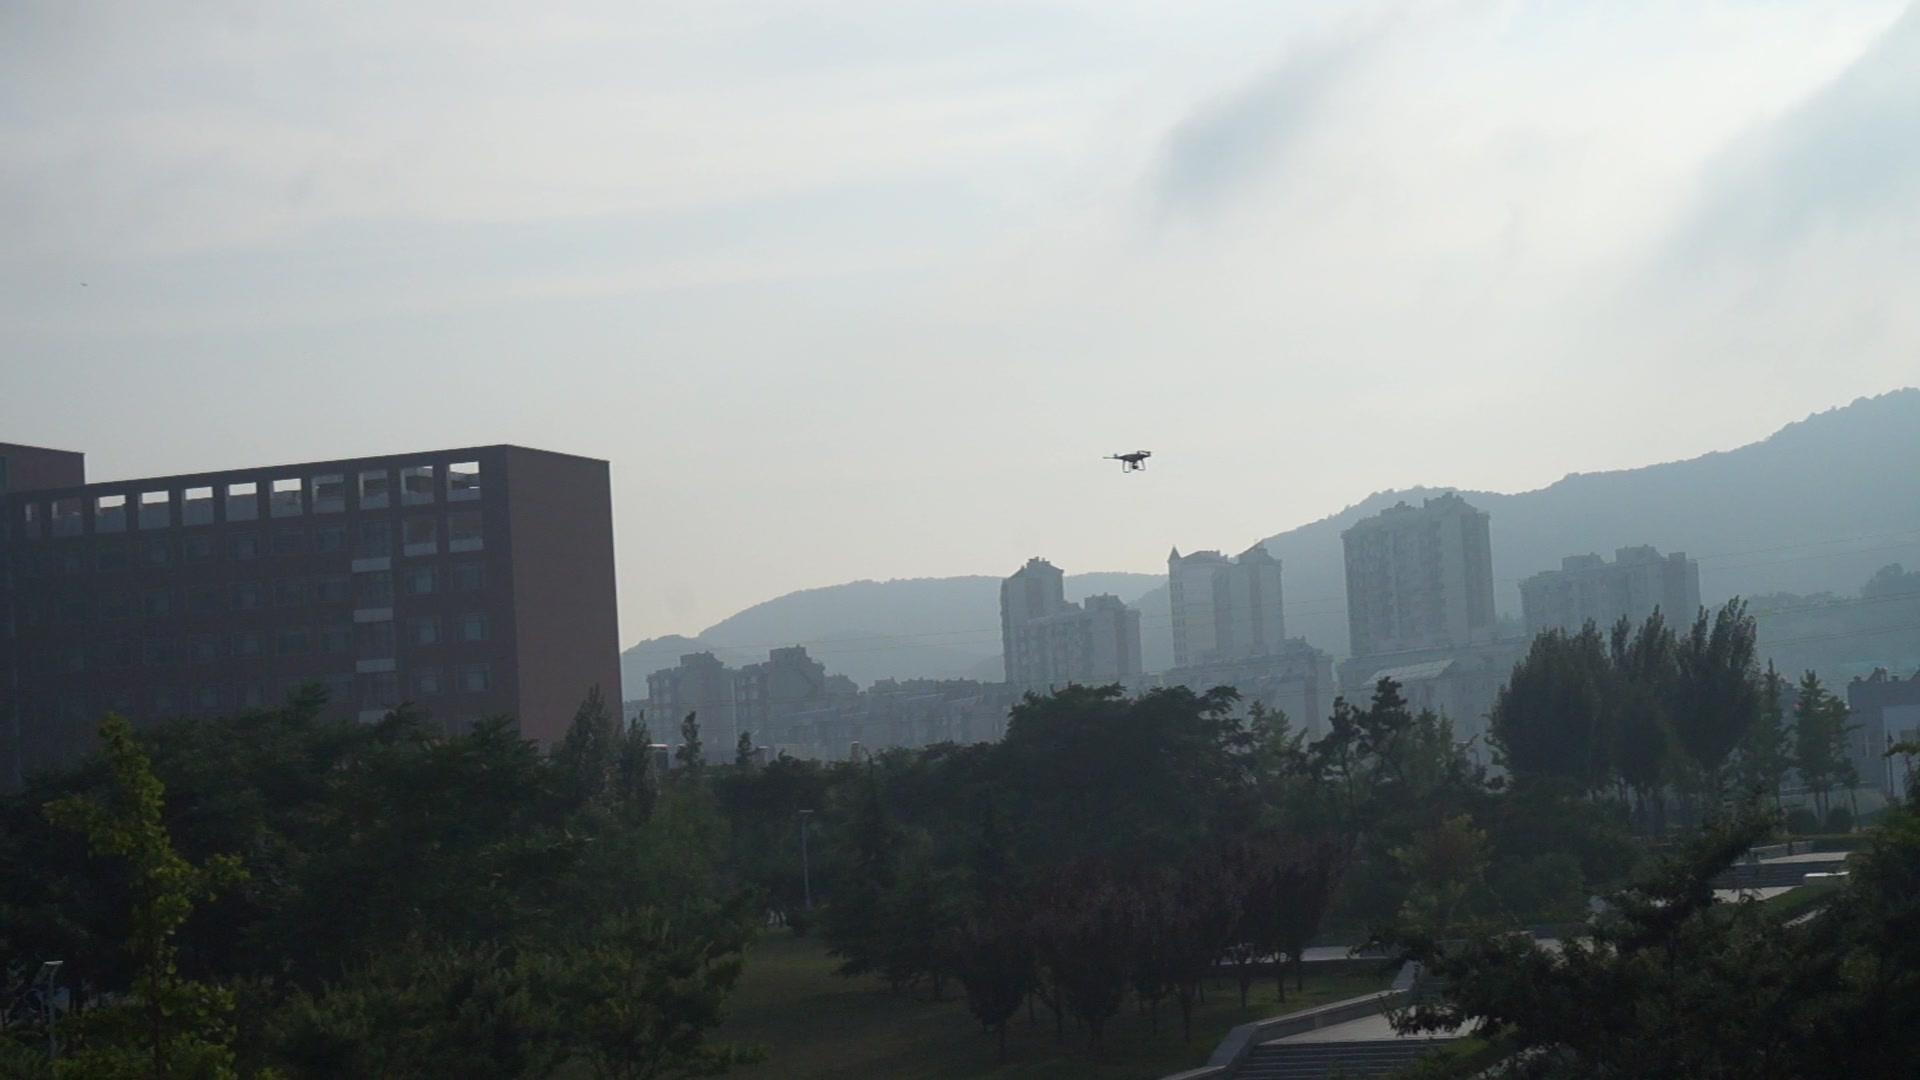UAV: (1104, 450, 1153, 473)
